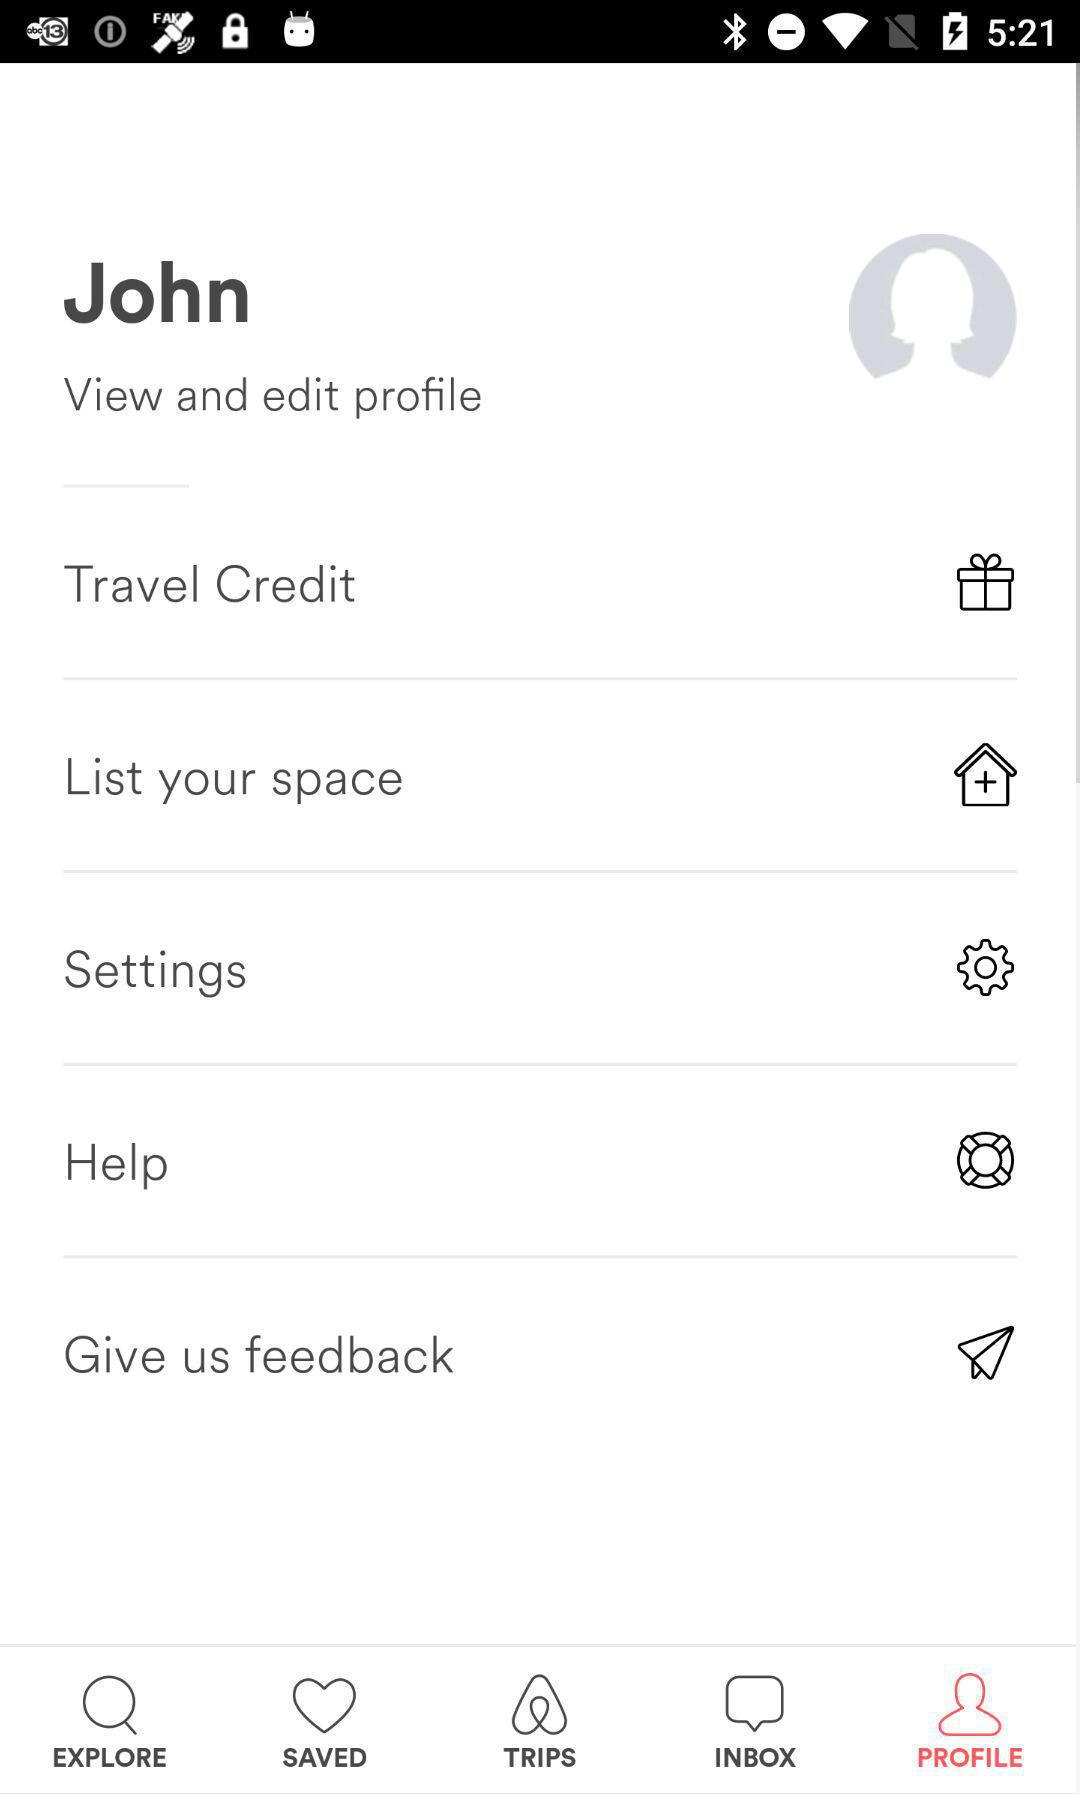Bottom_Navigation: (1, 1645, 1080, 1794)
Icon: (847, 233, 1019, 384), (937, 1672, 1004, 1738), (953, 742, 1019, 809), (956, 938, 1016, 998), (954, 552, 1015, 613), (293, 1677, 357, 1734), (725, 1674, 785, 1732), (956, 1322, 1016, 1381), (83, 1674, 140, 1736)
Image: (954, 1130, 1016, 1190), (511, 1674, 568, 1736)
Text: (64, 375, 482, 422), (68, 757, 404, 806), (65, 1334, 456, 1375), (63, 260, 251, 325), (64, 564, 356, 604), (65, 950, 247, 1000), (68, 1140, 169, 1190), (53, 1747, 168, 1768), (917, 1747, 1024, 1768), (283, 1747, 368, 1768), (716, 1747, 797, 1768), (503, 1747, 577, 1768)
UpperTaskBar: (1, 1, 1080, 64)
